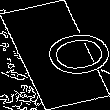O_W: (10, 27, 100, 83)
